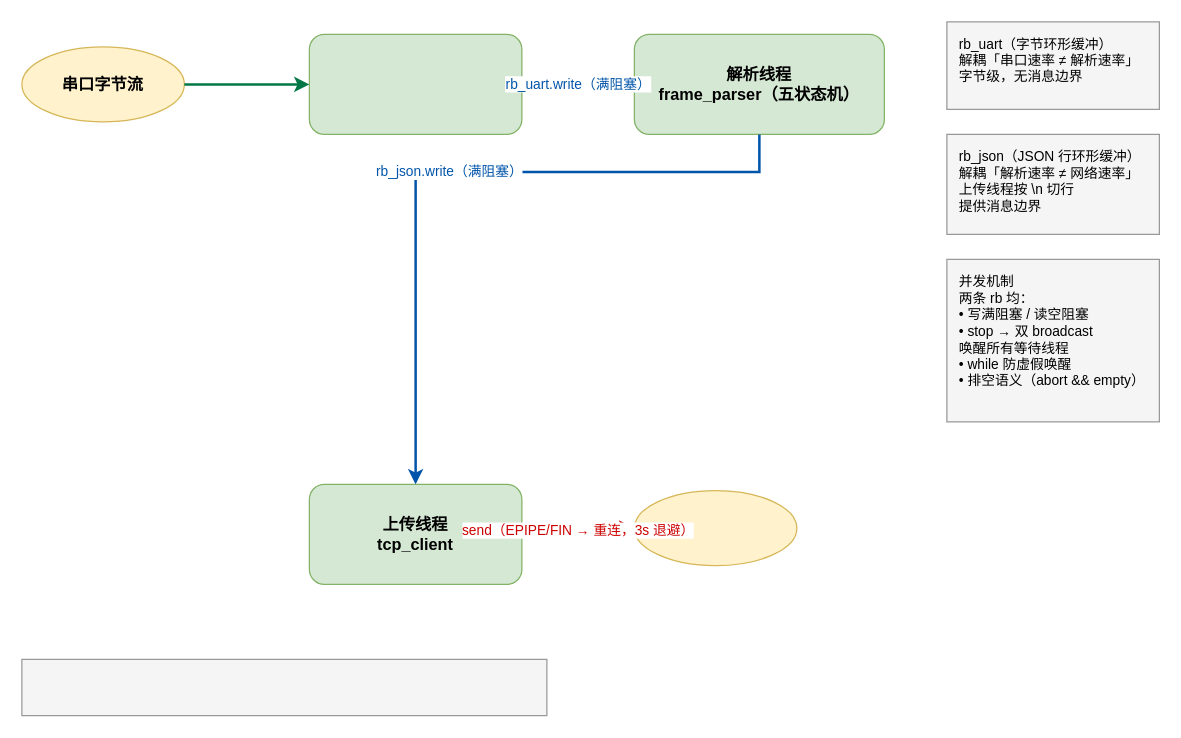
The diagram is 1181 pixels wide and 738 high, and some of its shapes have lost their labels. The shapes that lost their labels are listed below. From the top down, each one's box as (x1, y1, x2, y2) in pixels, then its label:
(308, 33, 522, 134): 采集线程 serial_read
(633, 489, 797, 566): tcp_server
(21, 658, 547, 716): 图例：▬ 绿线 = 串口 蓝线 = 内存缓冲区 红线 = TCP 🟡 椭圆 = 外部进程 🟢 方块 = pthread 线程
